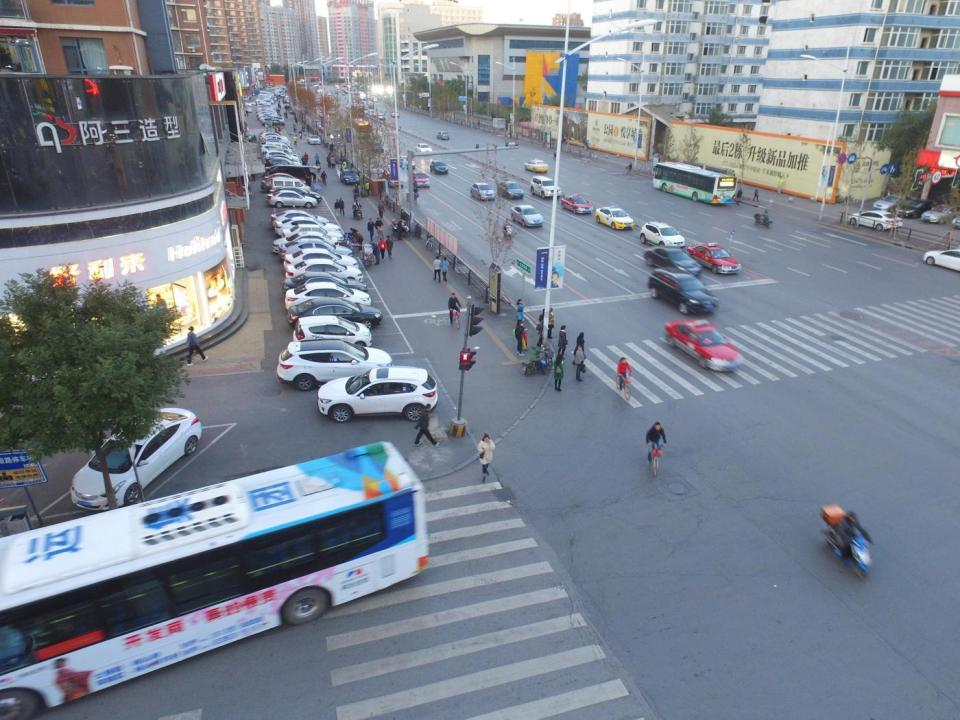bus: (0, 440, 473, 717), (652, 161, 738, 209), (352, 118, 376, 143), (366, 98, 374, 110)
car: (66, 405, 204, 508), (318, 364, 444, 425), (276, 340, 398, 388), (666, 316, 745, 375), (645, 266, 719, 318), (288, 297, 381, 332), (294, 316, 372, 356), (286, 281, 372, 316), (280, 271, 368, 304), (285, 260, 364, 291), (642, 244, 701, 281), (284, 248, 358, 276), (687, 240, 740, 275), (279, 238, 353, 262), (270, 231, 340, 256), (280, 224, 344, 250), (273, 217, 341, 241), (638, 219, 687, 250), (848, 209, 903, 232), (595, 203, 635, 232), (268, 186, 322, 206), (269, 210, 330, 227), (892, 198, 939, 220), (267, 190, 319, 208), (921, 202, 960, 224), (511, 204, 545, 228), (871, 192, 910, 212), (560, 192, 595, 214), (530, 175, 562, 199), (263, 173, 306, 188), (263, 150, 300, 167), (265, 163, 303, 179), (265, 156, 303, 172), (267, 148, 300, 166), (265, 154, 302, 170), (259, 139, 292, 155), (471, 182, 497, 202), (498, 180, 524, 199), (259, 145, 293, 158), (263, 138, 292, 153), (523, 157, 550, 173), (380, 171, 404, 189), (339, 168, 360, 186), (260, 135, 291, 146), (262, 137, 292, 148), (430, 159, 450, 175), (260, 133, 289, 144), (411, 171, 430, 187), (368, 139, 386, 154), (259, 132, 286, 141), (400, 155, 416, 169), (333, 136, 347, 149), (306, 134, 321, 145), (416, 143, 432, 153), (331, 129, 345, 140), (434, 131, 450, 140), (244, 132, 257, 143), (262, 120, 285, 126), (263, 116, 285, 122), (390, 110, 401, 118), (376, 113, 386, 121), (246, 106, 252, 114), (367, 110, 375, 116), (363, 108, 369, 115), (335, 90, 339, 94), (374, 98, 378, 102), (328, 92, 331, 96), (342, 92, 345, 95)
van: (268, 165, 320, 185), (260, 178, 306, 197), (272, 178, 311, 197), (263, 142, 292, 157), (358, 102, 366, 108)
